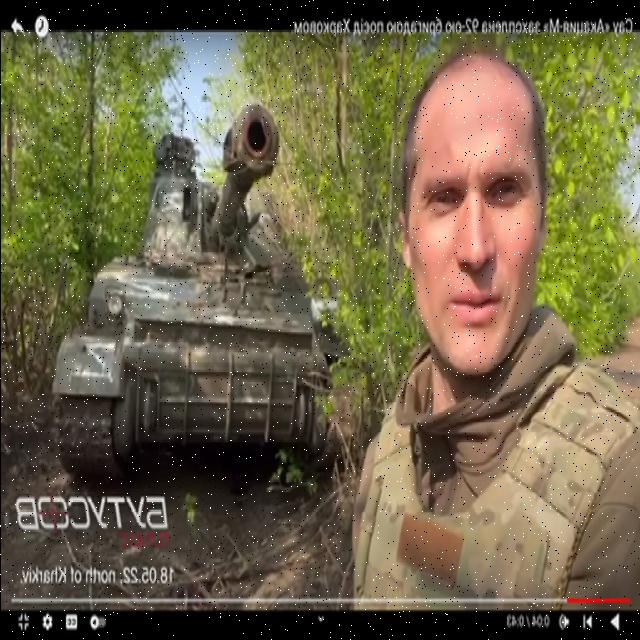ART: (52, 93, 350, 487)
